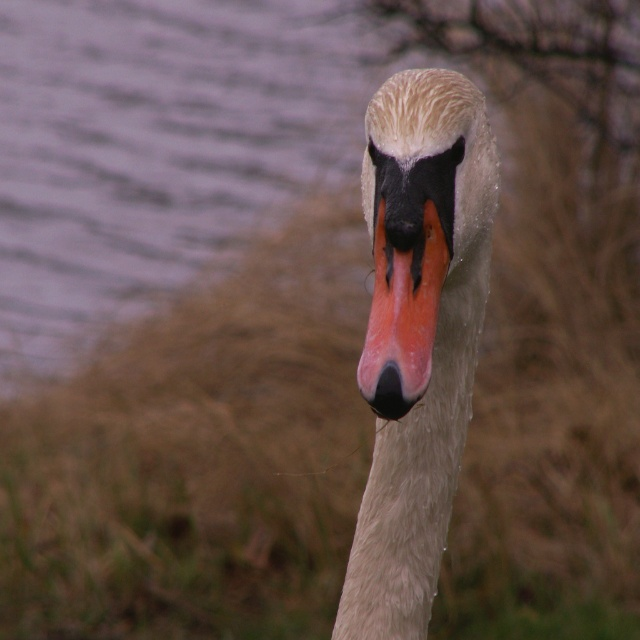Goose: (330, 56, 501, 634)
